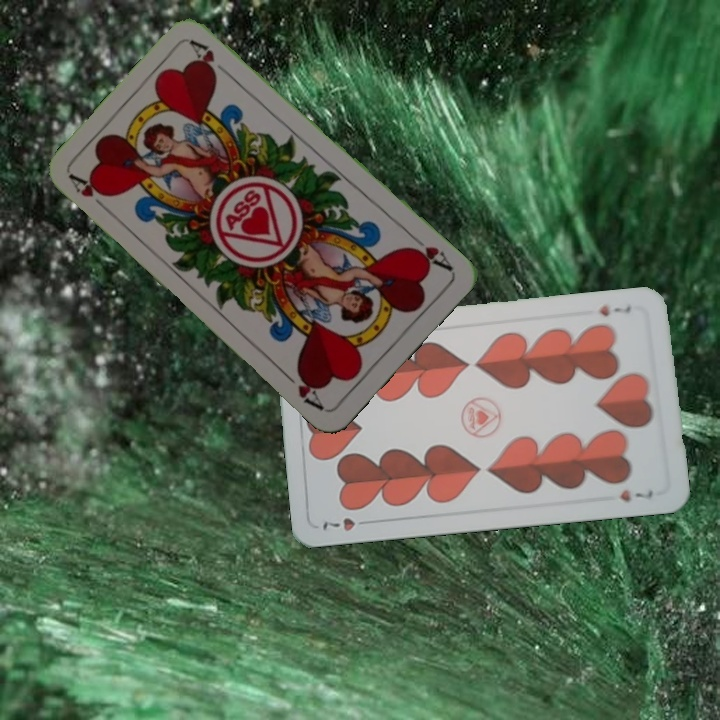H7: (318, 514, 375, 534), (595, 301, 634, 319)
HA: (66, 170, 114, 217), (404, 230, 455, 274)
